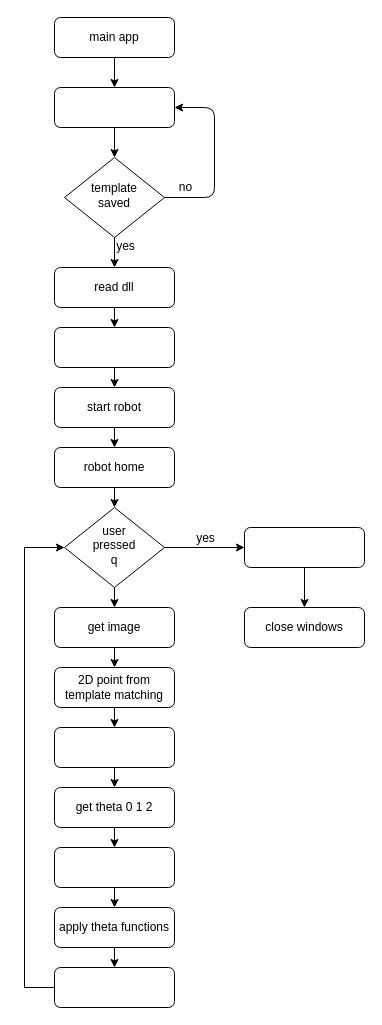
This 382x1025 diagram has some shape labels left out. The shapes that lost their labels are listed below. From the top down, each one's centre as x and y in pixels, then its label:
At point 114,107: "template config app".
At point 114,347: "load camera matrix".
At point 304,547: "stop robot".
At point 114,747: "3D point from triangulate".
At point 114,867: "transform 3D point to robot base".
At point 114,987: "set theta functions to robot".
